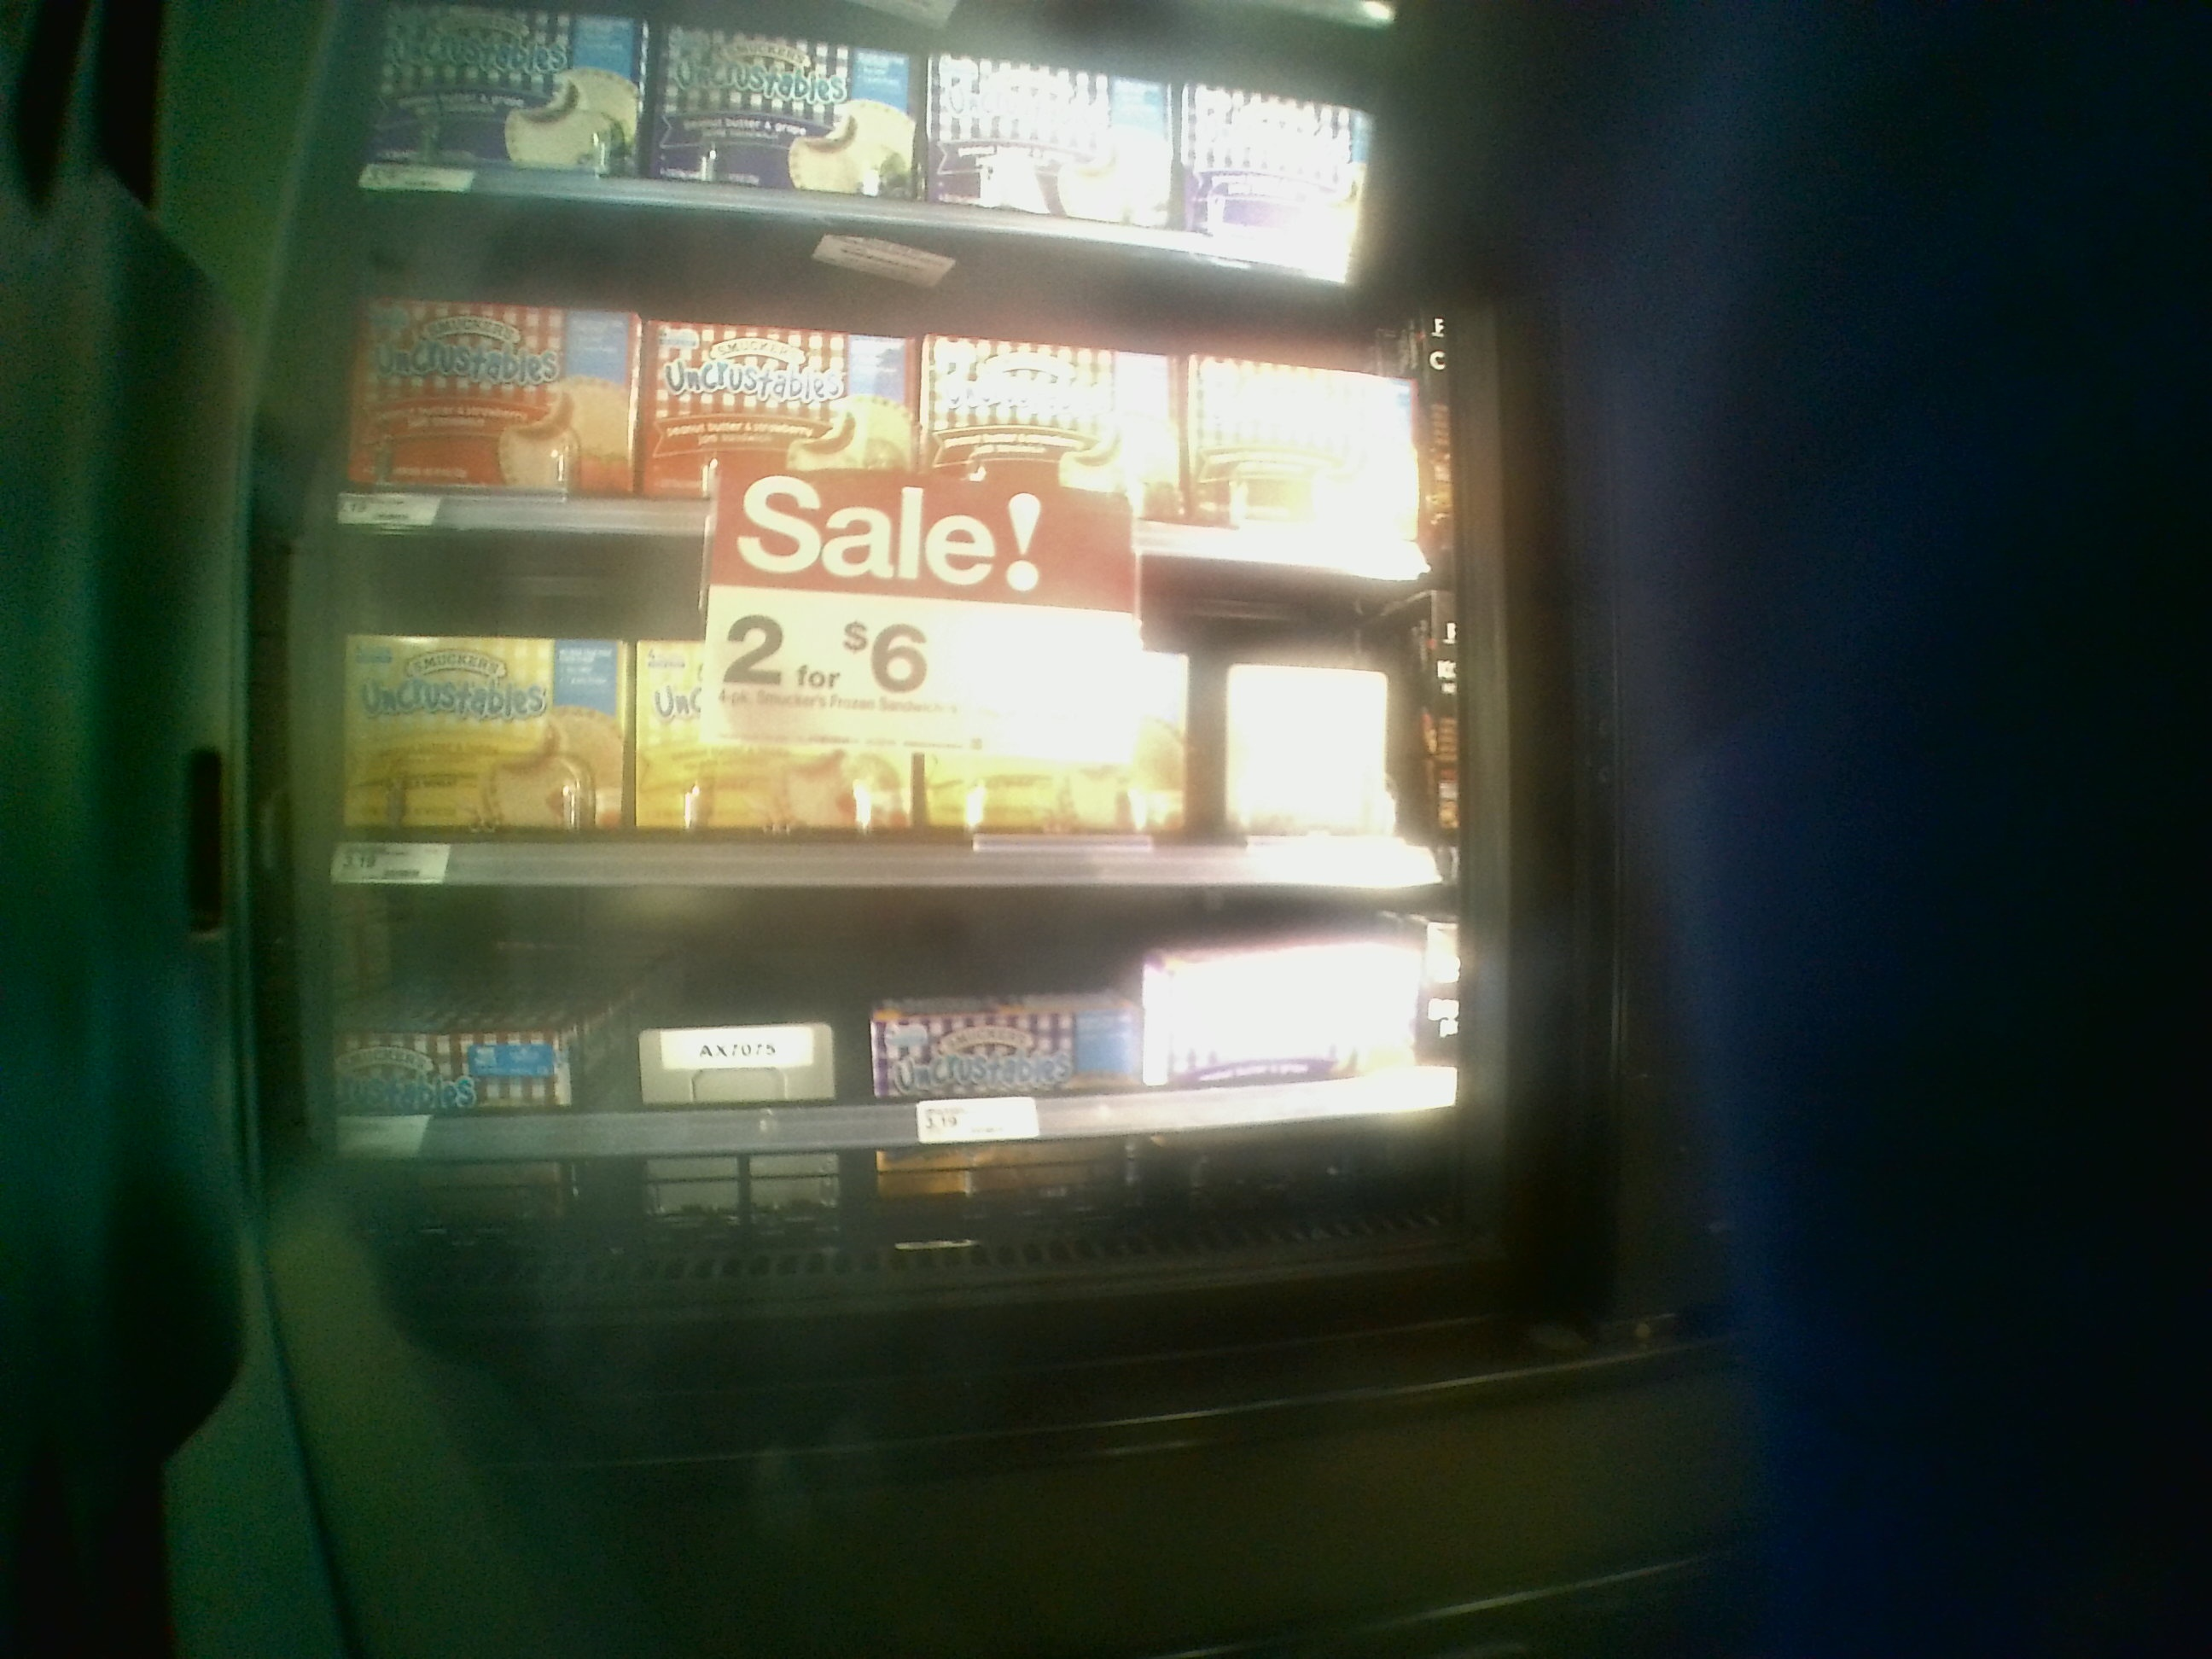shelf: (303, 882, 1463, 1305), (327, 197, 1442, 580), (293, 528, 1460, 894)
